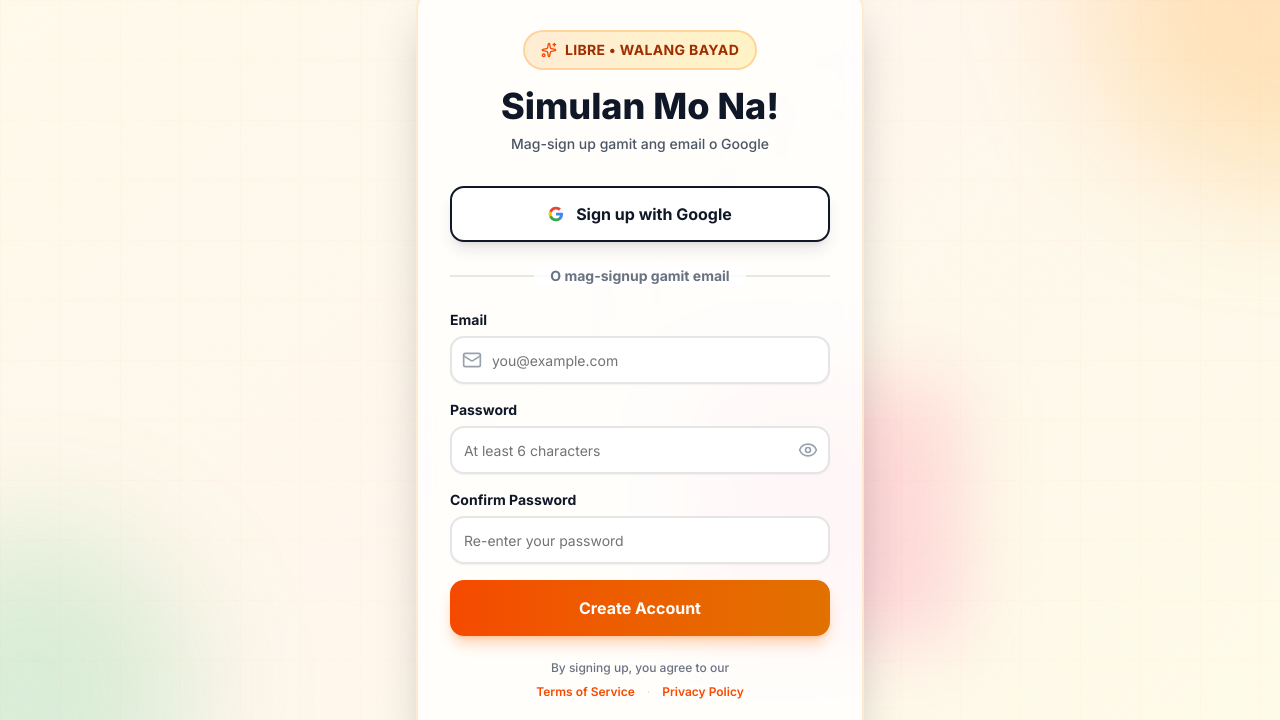
Test: Email Signup - SignupPage › shows friendly message when email already registered
(page scrolled)
Step 1. Type "exists@example.com" into the field labelled "Email" → [640, 360], box [450,336,830,384]
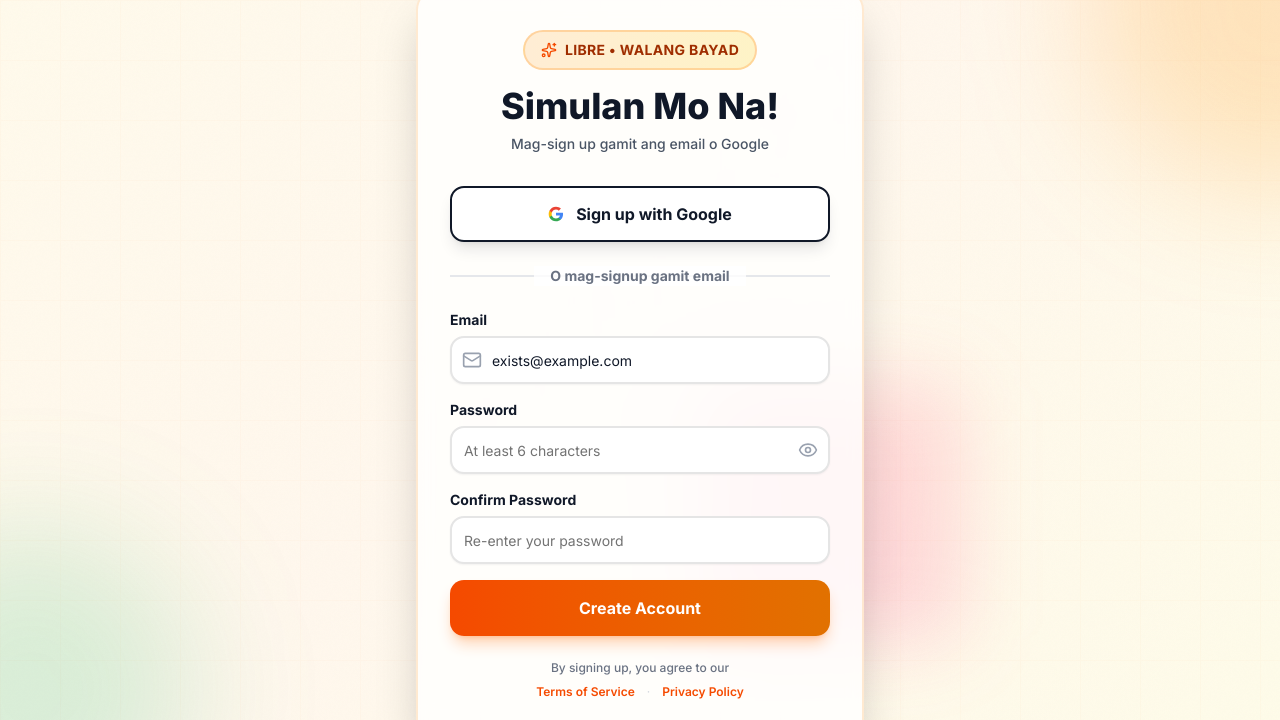
Step 2. Type "password123" into the password field labelled "Password" → [640, 450], box [450,426,830,474]
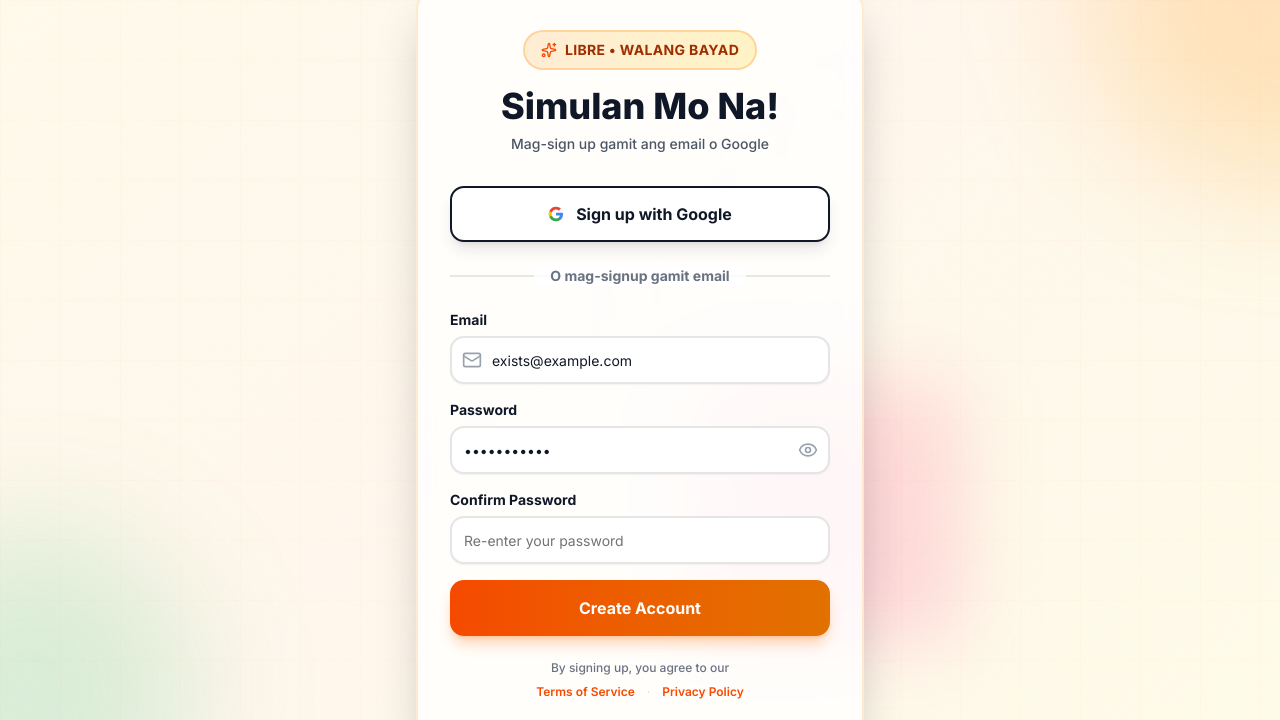
Step 3. Type "password123" into the password field labelled "Confirm Password" → [640, 540], box [450,516,830,564]
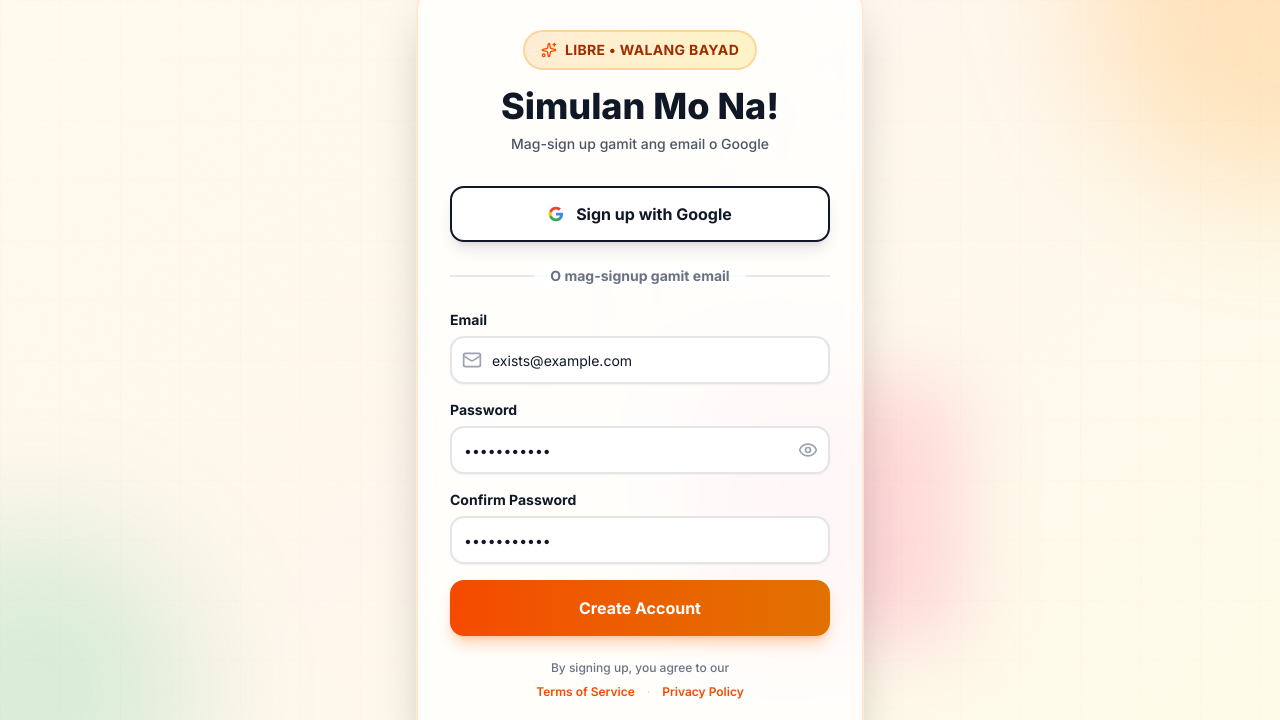
Step 4. Click the button "Create Account" → [640, 608], box [450,580,830,636]
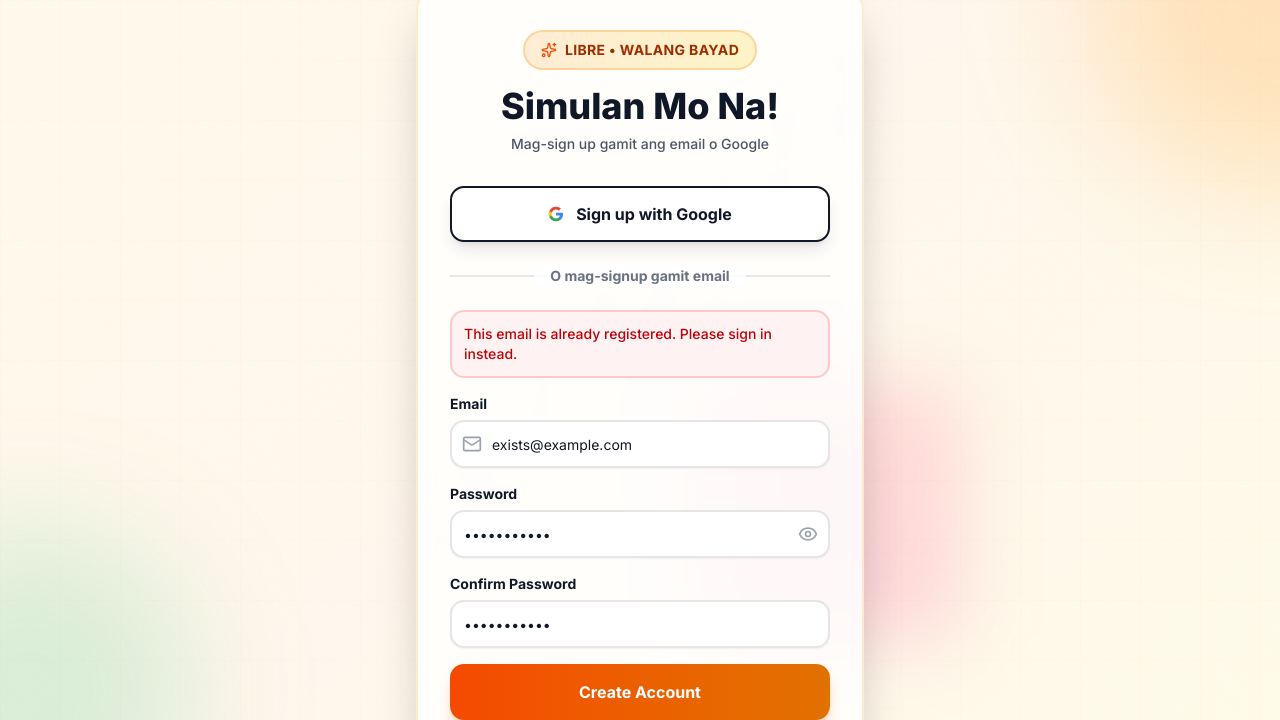
Check: the text "This email is already registered. Please sign in instead." is shown, box [450,310,830,378]
